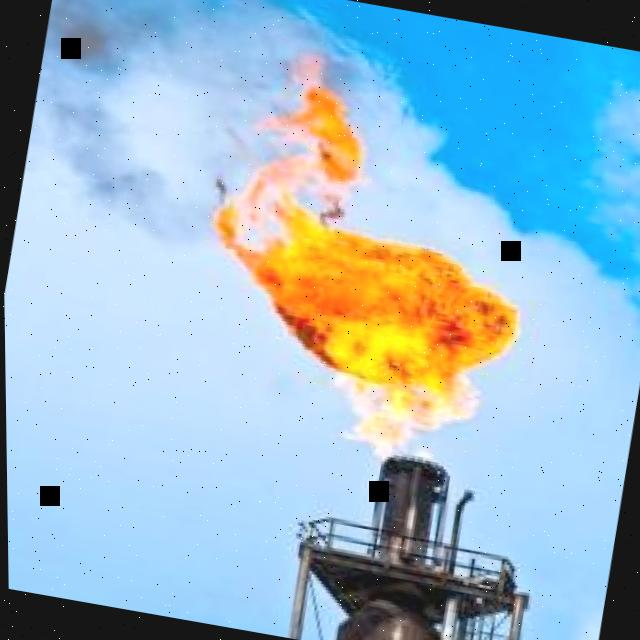fire: (208, 82, 520, 452)
smoke: (34, 0, 345, 242)
